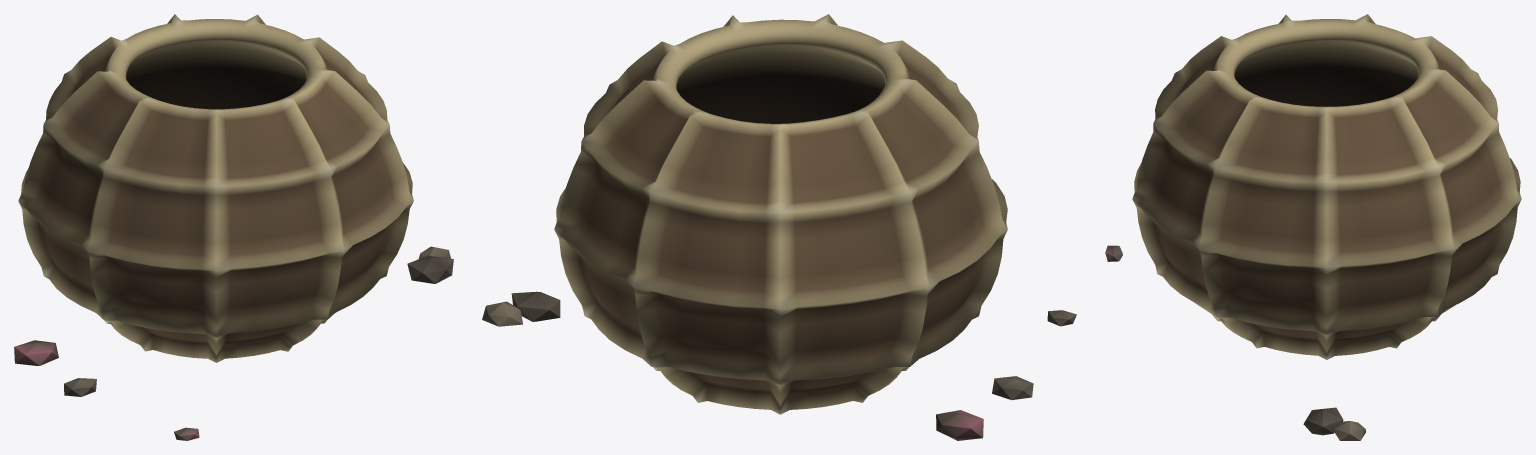
File: ProtospongiaNovaki.fbx
3 views of the same model, side by side, from view 1: azimuth 30°, elevation 25°; view 2: azimuth 150°, elevation 25°; view 3: azimuth 270°, elevation 25° (orthographic). The views are drawn at different scales.
Parts seen in each view (by area): view 1: ProtospongiaNovaki; view 2: ProtospongiaNovaki; view 3: ProtospongiaNovaki.
Boxes of the visible parts, x1,y1,x2,y2 form: ProtospongiaNovaki: (14, 14, 453, 440); ProtospongiaNovaki: (482, 14, 1076, 440); ProtospongiaNovaki: (1105, 14, 1521, 440).
Size of the model in its own units: 1.43 by 0.878 by 1.2.
